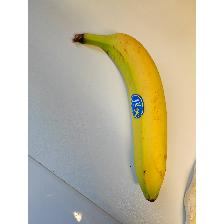Banane: (70, 31, 168, 203)
